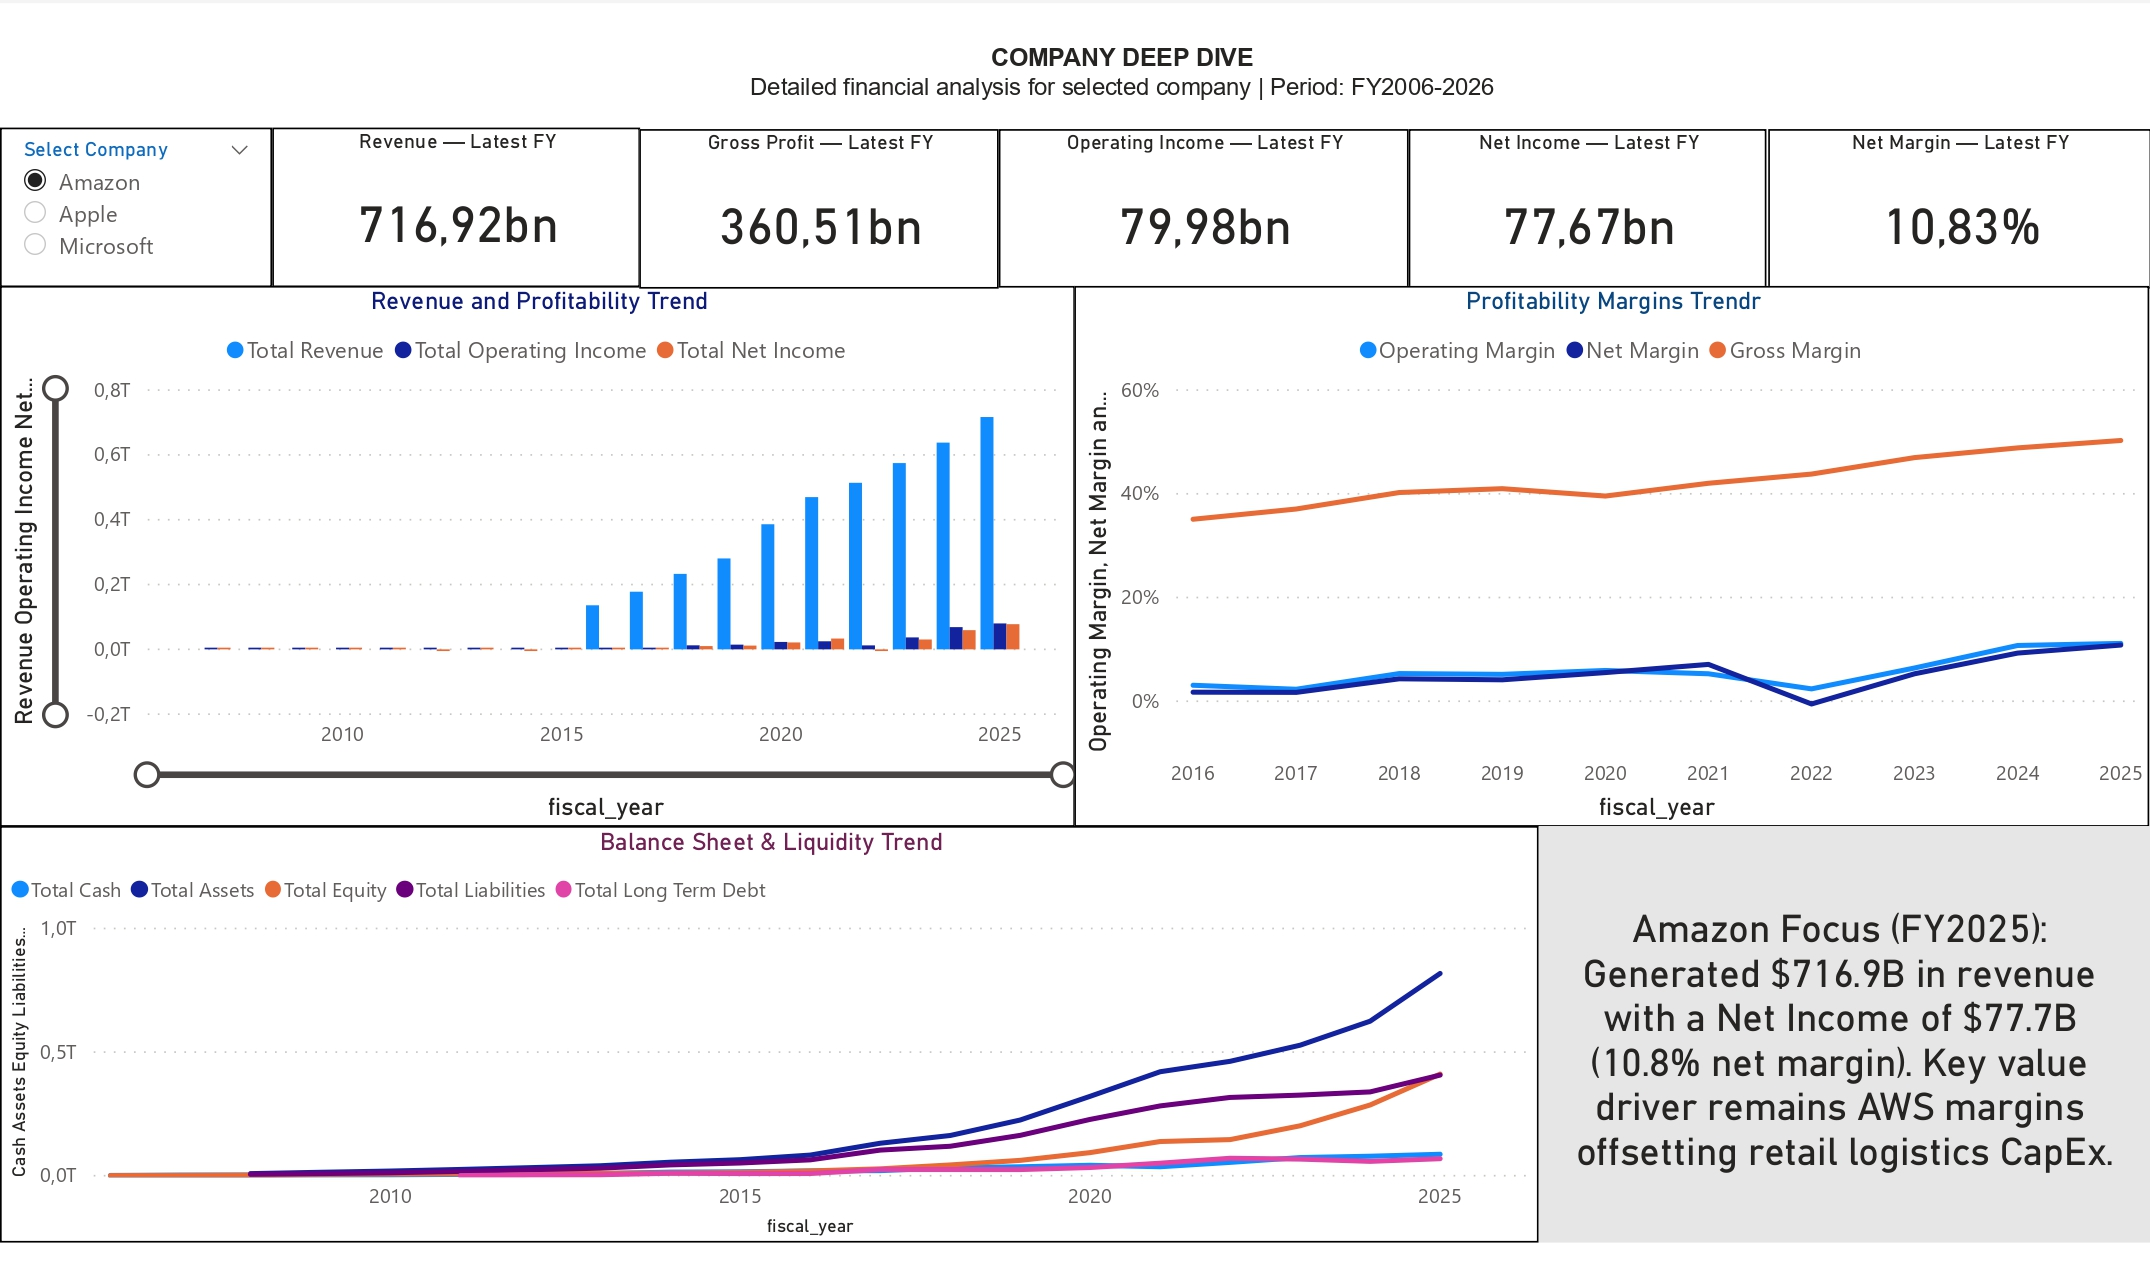

Layout of this report page (visuals, bound fields, positions):
{"tool":"powerbi","page":{"name":"Company Deep Dive","canvas":[1280,720],"ordinal":1},"visuals":[{"type":"textbox","box":[200.4,0,934.5,52.5],"z":0},{"type":"slicer","fields":{"Values":["analytics bi_financials.company"]},"box":[0,55.5,161.7,94.7],"z":1000},{"type":"card","title":"Revenue — Latest FY","fields":{"Values":["analytics bi_financials.Revenue Latest FY"]},"box":[161.7,55.5,219.1,94.7],"z":2000},{"type":"card","title":"Net Income —  Latest FY","fields":{"Values":["analytics bi_financials.Net Income Latest FY"]},"box":[839,56.4,213.3,94.7],"z":3000},{"type":"card","title":"Operating Income —  Latest FY","fields":{"Values":["analytics bi_financials.Operating Income Latest FY"]},"box":[595,56.4,243.9,94.7],"z":4000},{"type":"card","title":"Net Margin —  Latest FY","fields":{"Values":["analytics bi_financials.Net Margin Latest FY"]},"box":[1052.3,56.4,227.7,94.7],"z":5000},{"type":"lineClusteredColumnComboChart","title":"Revenue and Profitability Trend","fields":{"Category":["analytics bi_financials.fiscal_year"],"Y":["analytics bi_financials.Total Revenue","analytics bi_financials.Total Operating Income","analytics bi_financials.Total Net Income"]},"box":[0,149.9,640.5,321.7],"z":6000},{"type":"lineChart","title":"Profitability Margins Trendr","fields":{"Category":["analytics bi_financials.fiscal_year"],"Y":["analytics bi_financials.Operating Margin","analytics bi_financials.Net Margin","analytics bi_financials.Gross Margin"]},"box":[639.5,149.9,640.5,321.7],"z":7000},{"type":"lineChart","title":"Balance Sheet & Liquidity Trend","fields":{"Category":["analytics bi_financials.fiscal_year"],"Y":["analytics bi_financials.Total Cash","analytics bi_financials.Total Assets","analytics bi_financials.Total Equity","analytics bi_financials.Total Liabilities","analytics bi_financials.Total Long Term Debt"]},"box":[0,471.6,916.5,247.8],"z":8000},{"type":"card","fields":{"Values":["analytics bi_financials.Dynamic Company Narrative"]},"box":[916.5,471.6,363.5,247.8],"z":10000},{"type":"card","title":"Gross Profit — Latest FY","fields":{"Values":["analytics bi_financials.Gross Profit Latest FY"]},"box":[380.7,56.4,214.3,94.7],"z":10001}]}

Visuals, with their boxes on the page's 1280x720 design canvas (x1, y1, x2, y2). These are canvas units, not pixel positions in the 2150x1275 screenshot, which may show the page scaled, cropped or inside an application window:
textbox: x1=200, y1=0, x2=1135, y2=52
slicer - analytics bi_financials.company: x1=0, y1=56, x2=162, y2=150
"Revenue — Latest FY" card: x1=162, y1=56, x2=381, y2=150
"Net Income —  Latest FY" card: x1=839, y1=56, x2=1052, y2=151
"Operating Income —  Latest FY" card: x1=595, y1=56, x2=839, y2=151
"Net Margin —  Latest FY" card: x1=1052, y1=56, x2=1280, y2=151
"Revenue and Profitability Trend" lineClusteredColumnComboChart: x1=0, y1=150, x2=640, y2=472
"Profitability Margins Trendr" lineChart: x1=640, y1=150, x2=1280, y2=472
"Balance Sheet & Liquidity Trend" lineChart: x1=0, y1=472, x2=916, y2=719
card - analytics bi_financials.Dynamic Company Narrative: x1=916, y1=472, x2=1280, y2=719
"Gross Profit — Latest FY" card: x1=381, y1=56, x2=595, y2=151
